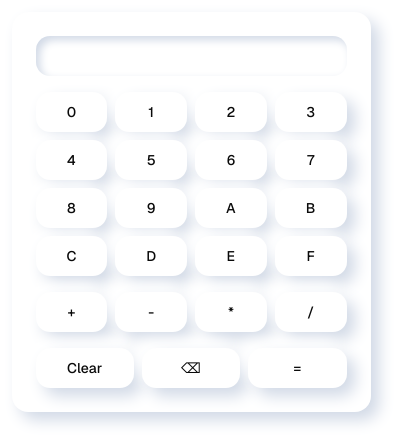
Test: Hex Calculator - Basic UI Tests › equals button works
Click the button "F": (311, 256) [275,236,347,276]
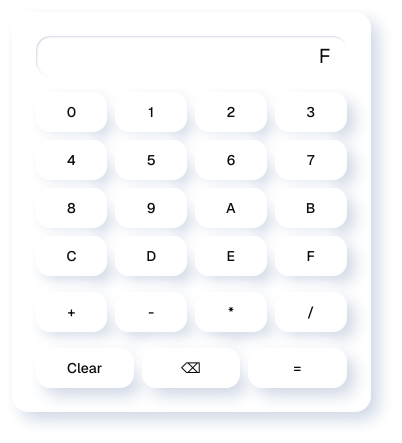
Click the button "+": (72, 312) [36,292,108,332]
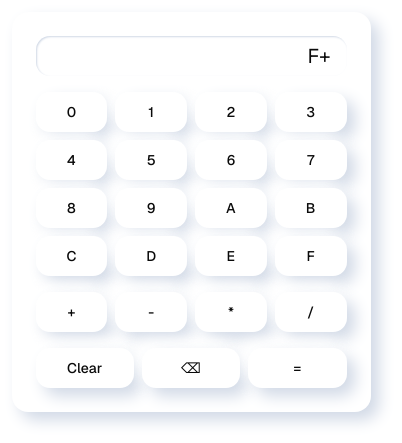
Click the button "1": (151, 112) [115,92,187,132]
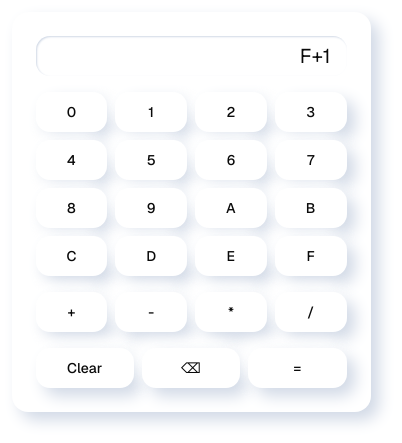
Click the button "=": (297, 368) [248,348,346,388]
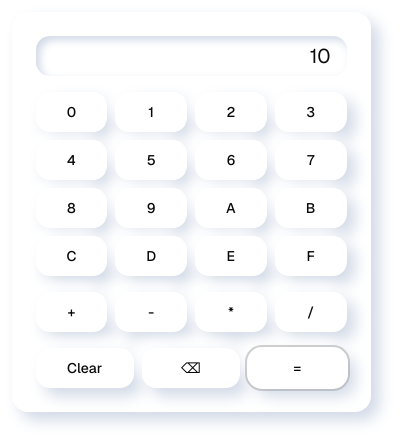
Check: the field holds "10", box [36,36,347,76]
